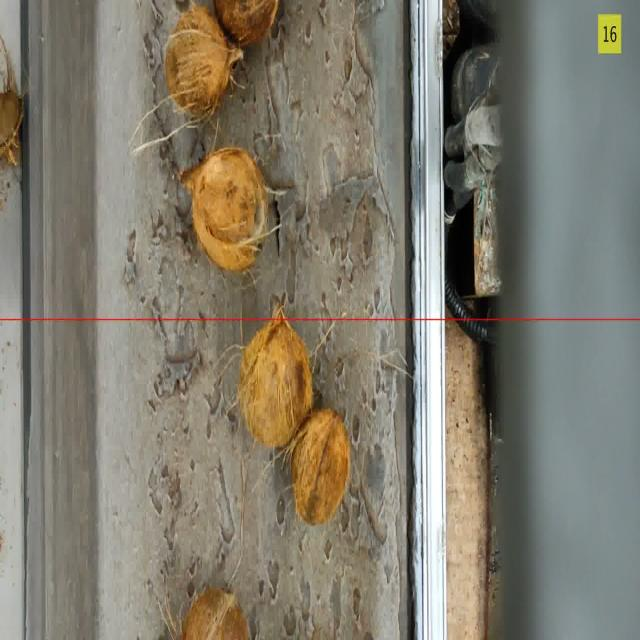Coconut-Conveyor-Belt: (181, 147, 270, 264), (240, 308, 313, 444), (167, 6, 239, 116), (295, 409, 350, 525), (189, 586, 247, 640), (221, 2, 282, 46)
